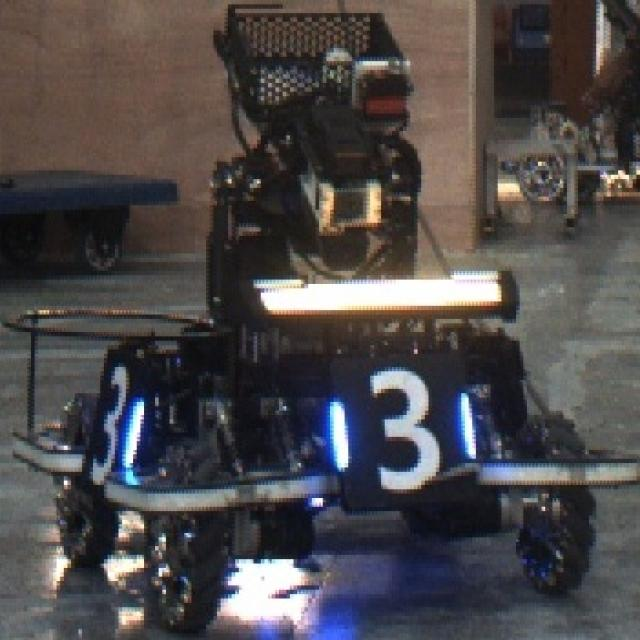B3: (324, 367, 478, 494)
